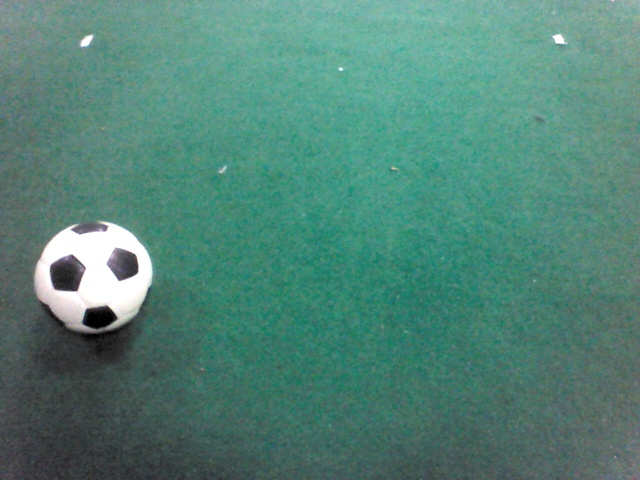ball: (32, 220, 154, 338)
